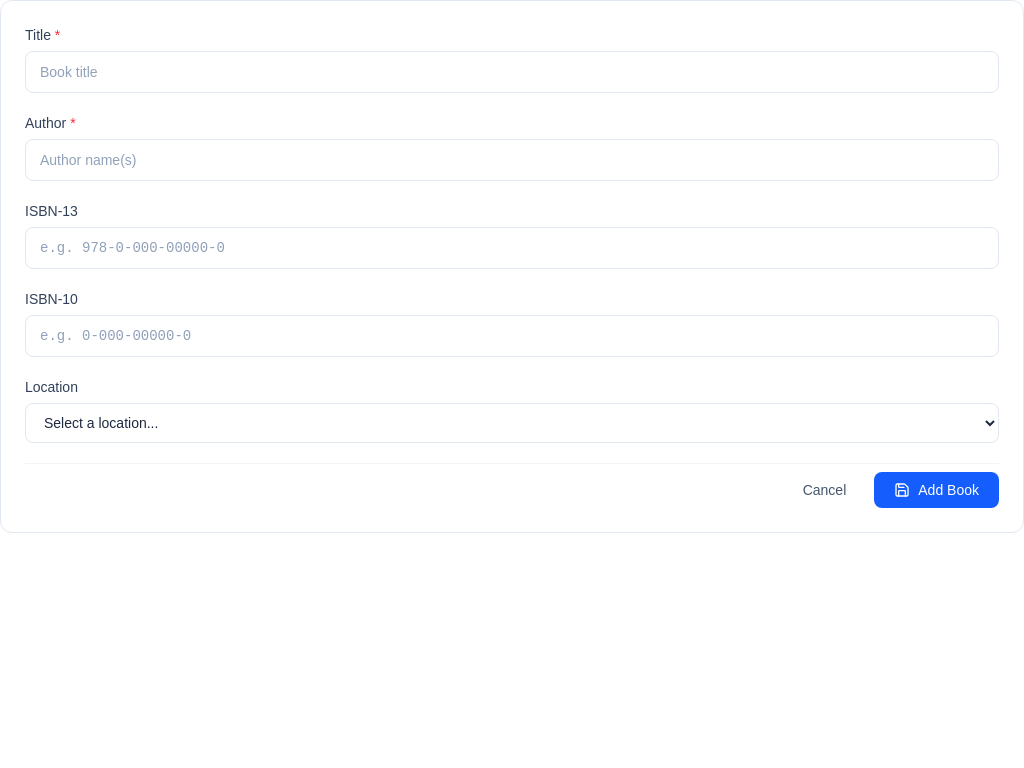
Scenario: BookForm — add mode › shows validation error when title is empty on submit
Click the button "Add Book".
click(937, 490)  # box [874,472,999,508]
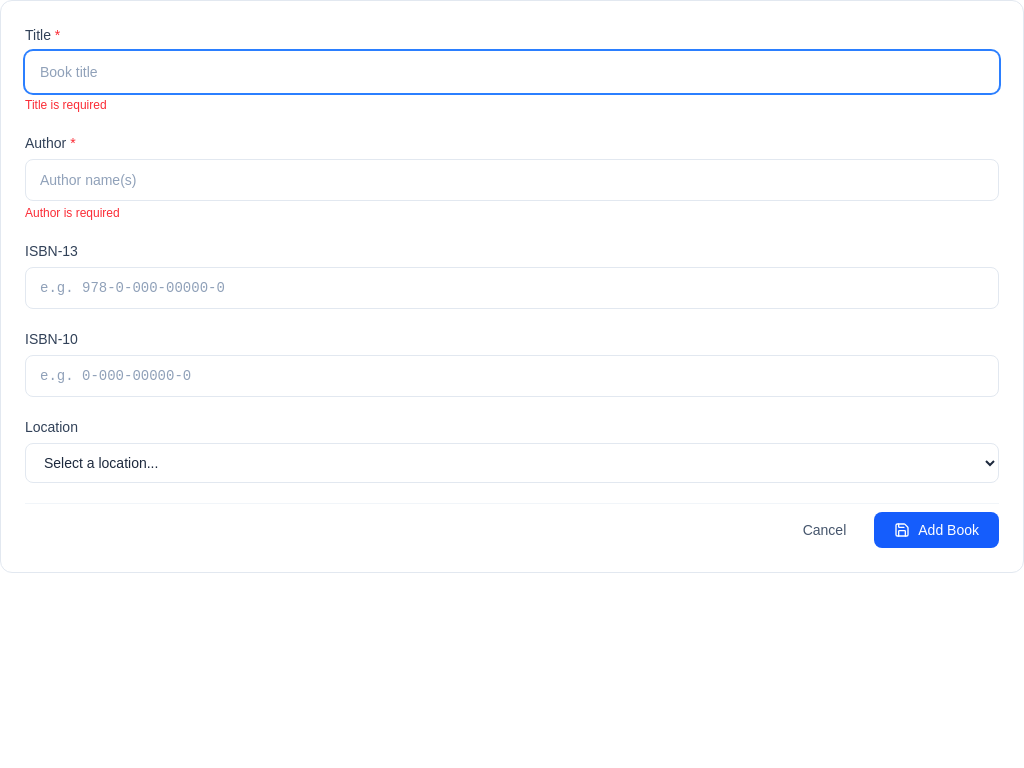
Now the text "Title is required" is shown, box [25,98,107,112]
